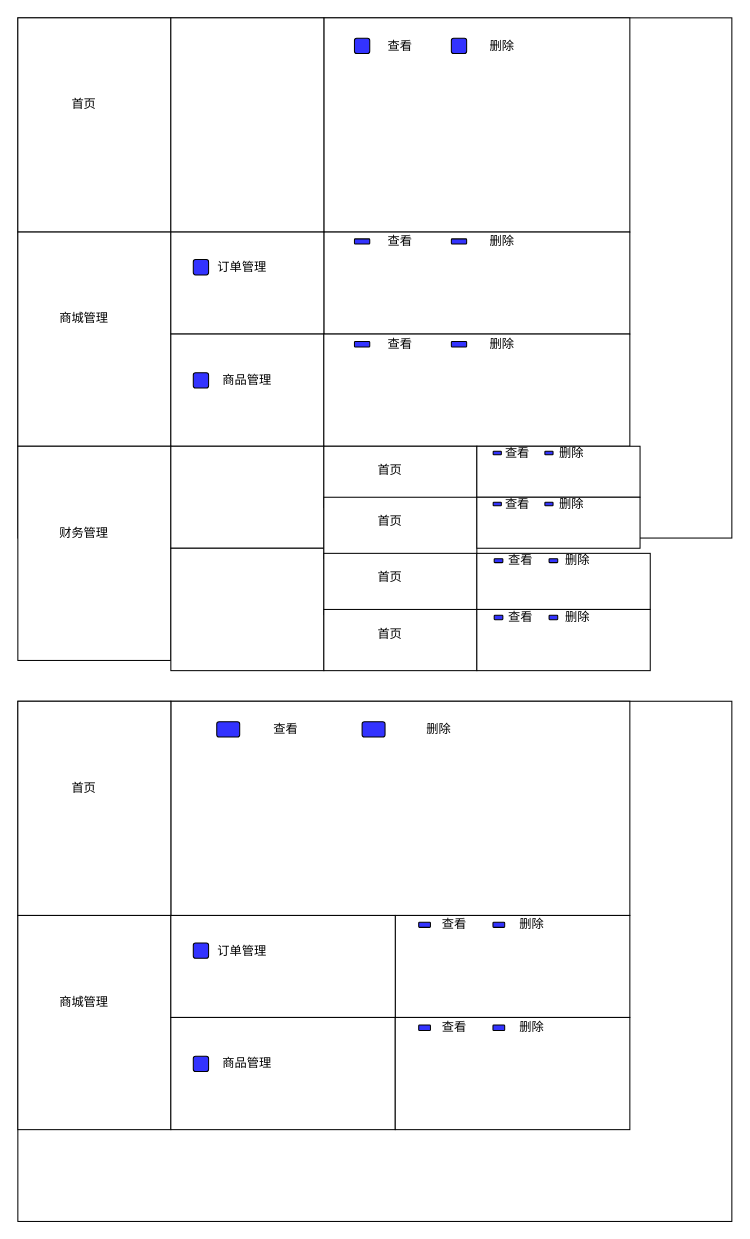
This 750x1239 diagram has some shape labels left out. Here are the shapes that lost their labels. From the top down, the centre of each, then its label:
the point at 247,496: 财务审计
the point at 247,609: 财务报表
